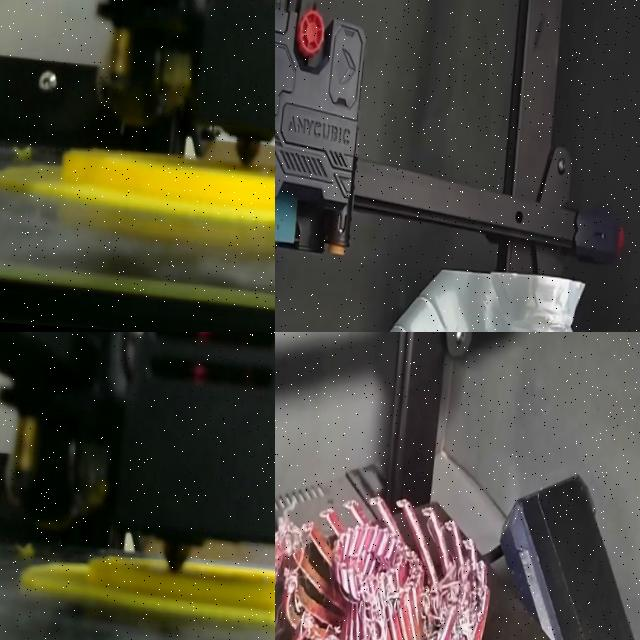spaghetti: (275, 465, 488, 640)
